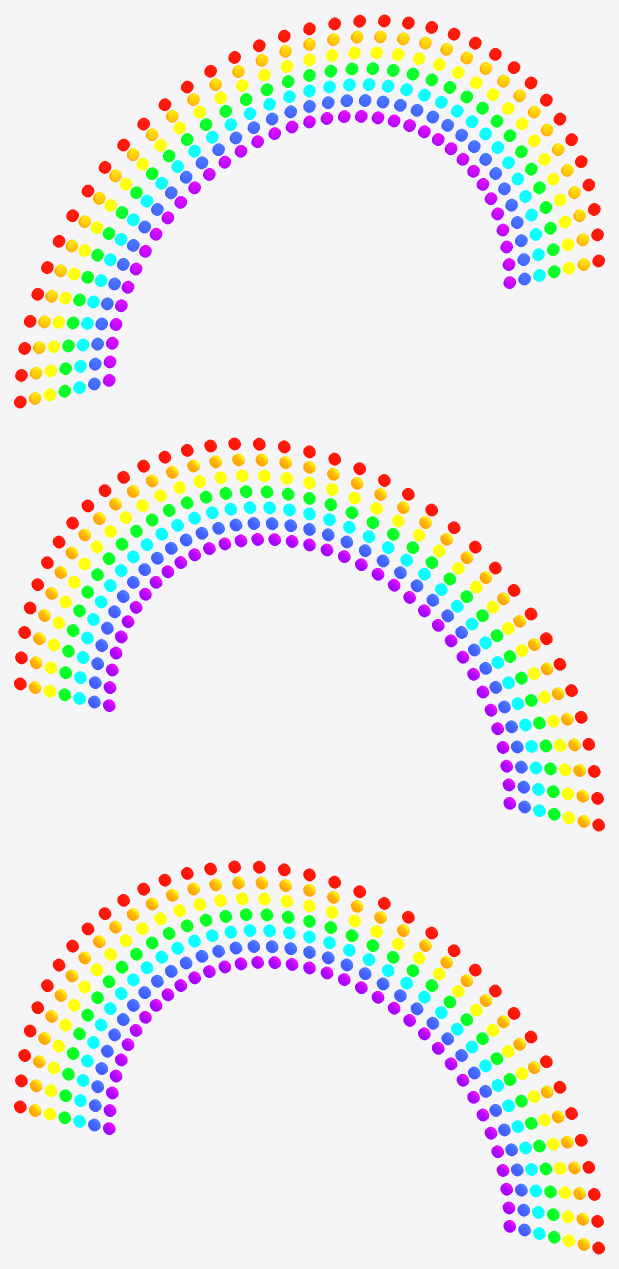
The model's file is light_rainbow.glb.
3 renders of one model, top to bottom at view 1: azimuth 30°, elevation 25°; view 2: azimuth 150°, elevation 25°; view 3: azimuth 330°, elevation 25°, orthographic.
Parts seen in each view (by area): view 1: light1 (×2), light1 (12) (×2), light1 (17) (×2), light1 (15) (×2), light1 (4) (×2), light1 (10) (×2), light1 (9) (×2), light1 (13) (×2), light1 (5) (×2), light1 (6) (×2), light1 (7) (×2), light1 (11) (×2) (+7 smaller); view 2: light1 (×2), light1 (17) (×2), light1 (12) (×2), light1 (15) (×2), light1 (4) (×2), light1 (10) (×2), light1 (9) (×2), light1 (13) (×2), light1 (5) (×2), light1 (6) (×2), light1 (7) (×2), light1 (11) (×2) (+7 smaller); view 3: light1 (×2), light1 (1) (×2), light1 (6) (×2), light1 (3) (×2), light1 (8) (×2), light1 (14) (×2), light1 (5) (×2), light1 (9) (×2), light1 (7) (×2), light1 (11) (×2), light1 (12) (×2), light1 (13) (×2) (+7 smaller).
Boxes of the visible parts, <box> form: light1 (×2): <box>303,22,604,288</box>; light1 (12) (×2): <box>52,27,460,275</box>; light1 (17) (×2): <box>15,17,340,381</box>; light1 (15) (×2): <box>24,14,390,330</box>; light1 (4) (×2): <box>204,65,587,220</box>; light1 (10) (×2): <box>81,48,501,240</box>; light1 (9) (×2): <box>98,61,520,224</box>; light1 (13) (×2): <box>41,21,437,293</box>; light1 (5) (×2): <box>181,80,577,204</box>; light1 (6) (×2): <box>158,98,566,190</box>; light1 (7) (×2): <box>137,93,552,194</box>; light1 (11) (×2): <box>66,36,481,257</box>; light1 (×2): <box>14,445,315,711</box>; light1 (17) (×2): <box>278,440,603,804</box>; light1 (12) (×2): <box>158,450,566,698</box>; light1 (15) (×2): <box>228,437,594,753</box>; light1 (4) (×2): <box>31,488,414,643</box>; light1 (10) (×2): <box>117,471,537,663</box>; light1 (9) (×2): <box>98,484,520,647</box>; light1 (13) (×2): <box>181,444,577,716</box>; light1 (5) (×2): <box>41,503,437,627</box>; light1 (6) (×2): <box>52,521,460,613</box>; light1 (7) (×2): <box>66,516,481,617</box>; light1 (11) (×2): <box>137,459,552,680</box>; light1 (×2): <box>303,868,604,1254</box>; light1 (1) (×2): <box>278,863,603,1227</box>; light1 (6) (×2): <box>158,873,566,1121</box>; light1 (3) (×2): <box>228,860,594,1176</box>; light1 (8) (×2): <box>117,894,537,1086</box>; light1 (14) (×2): <box>31,911,414,1066</box>; light1 (5) (×2): <box>181,867,577,1139</box>; light1 (9) (×2): <box>98,907,520,1070</box>; light1 (7) (×2): <box>137,882,552,1103</box>; light1 (11) (×2): <box>66,939,481,1040</box>; light1 (12) (×2): <box>52,944,460,1036</box>; light1 (13) (×2): <box>41,926,437,1050</box>.
Size of the model in its own units: 5.96 by 3.04 by 0.0585.
